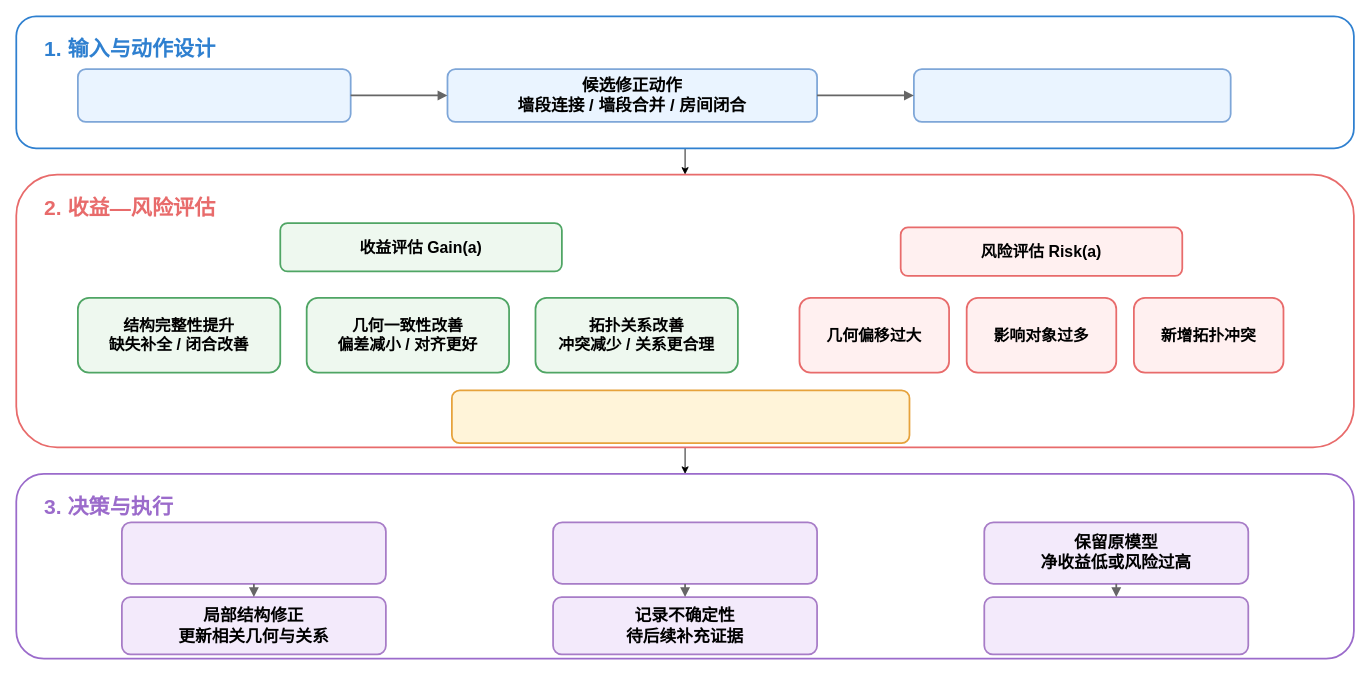
The diagram is 1369 pixels wide and 674 high, and some of its shapes have lost their labels. Each missing label, with the centre of its shape:
不执行修改 保持已有正确结构: pixel 1116 625
局部作用对象 相关墙体 / 房间 / 门窗开口: pixel 1072 95
已接受的候选约束: pixel 214 95
执行修正 净收益高，风险可控: pixel 253 552
暂缓处理 证据不足或风险不确定: pixel 685 552
综合评估 Net(a) = Gain(a) - Risk(a): pixel 680 416
